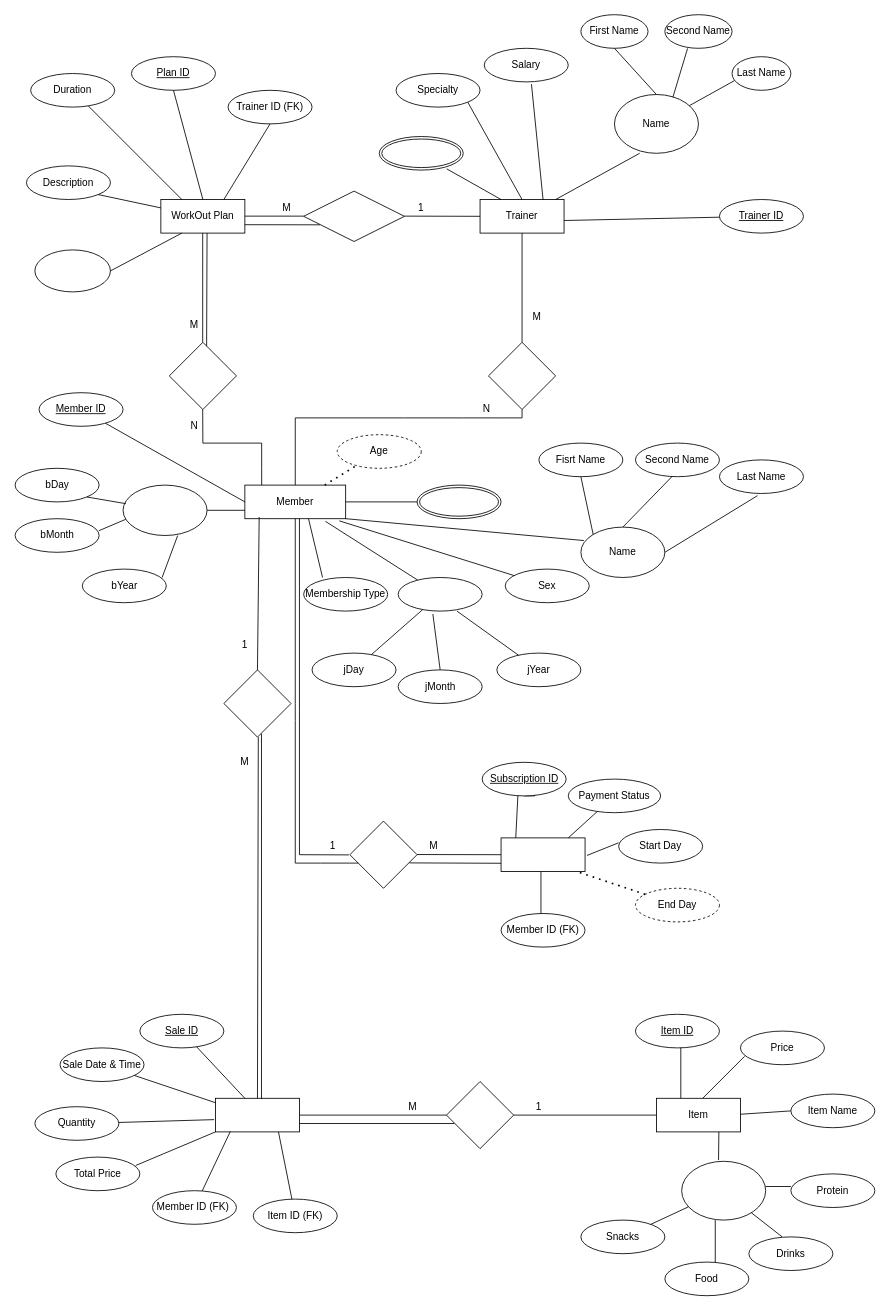
Image size: 890x1310. Some labels were removed from this diagram. Each missing label, with the centre of its shape:
"Birth Day" belongs at (164,510).
"Buys" belongs at (257,703).
"Category" belongs at (723,1190).
"Design" belongs at (353,216).
"Have" belongs at (383,854).
"Includes" belongs at (480,1115).
"Join Date" belongs at (439,594).
"MPhone" belongs at (458,501).
"Plan Name" belongs at (72,270).
"Sale" belongs at (257,1114).
"Subscription" belongs at (542,854).
"TPhone" belongs at (420,153).
"Train" belongs at (522,375).
"Uses" belongs at (202,375).
